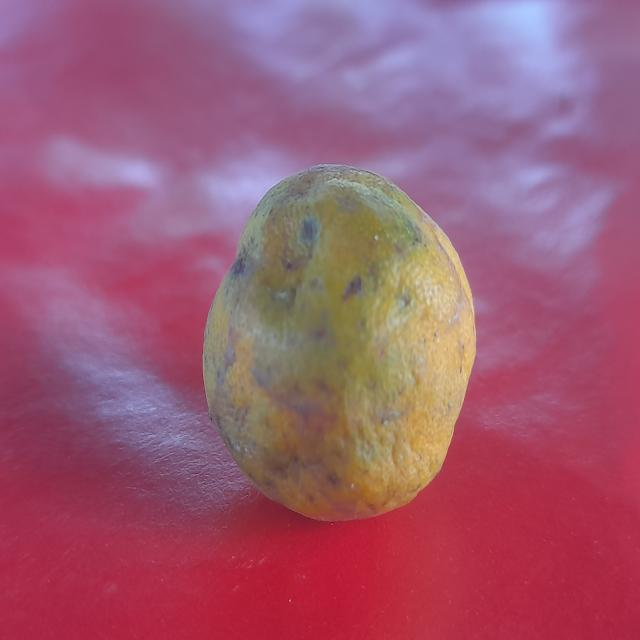black spot: (197, 147, 471, 517)
